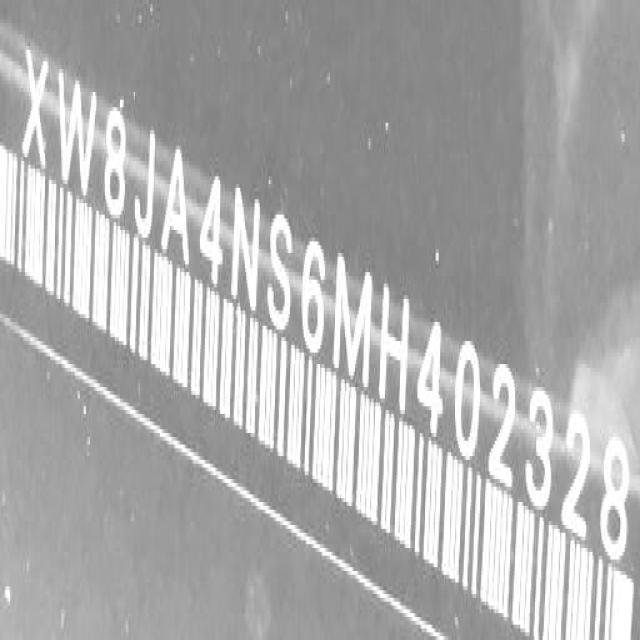0: (452, 335, 482, 468)
2: (562, 409, 592, 545), (488, 360, 518, 493)
3: (524, 386, 552, 520)
4: (416, 316, 446, 443), (198, 173, 226, 294)
6: (299, 227, 330, 361)
8: (602, 432, 630, 570), (101, 102, 129, 230)
A: (161, 141, 192, 282)
H: (376, 282, 410, 424)
J: (132, 123, 159, 244)
M: (330, 251, 372, 395)
N: (230, 178, 262, 316)
S: (263, 208, 296, 342)
W: (56, 62, 98, 205)
X: (22, 37, 52, 168)
